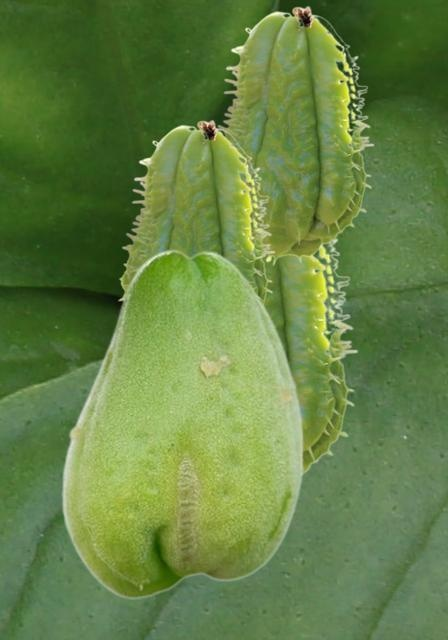sayote: (60, 248, 303, 598), (216, 5, 373, 265), (117, 119, 274, 302), (263, 238, 357, 474)
